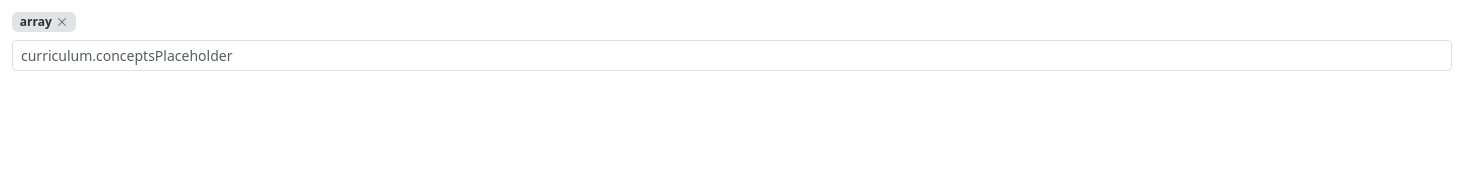
ConceptPicker › does not suggest what is already selected
The image size is (1464, 172).
In the dropdown: (732, 56) [12,40,1452,71], type "arr"
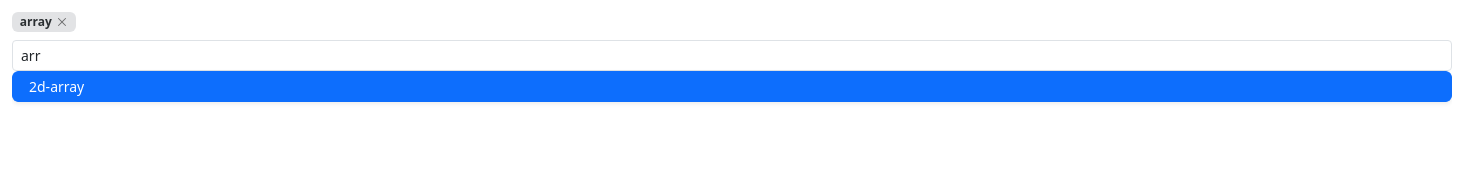
Expected: the options read "2d-array", in this order, [12,71,1452,102]
